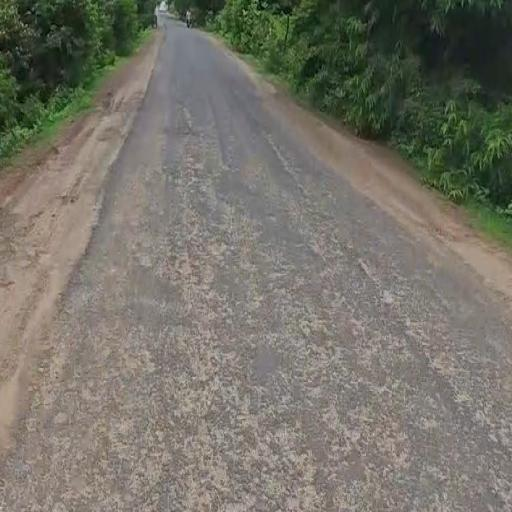ravelling: (109, 185, 444, 500)
